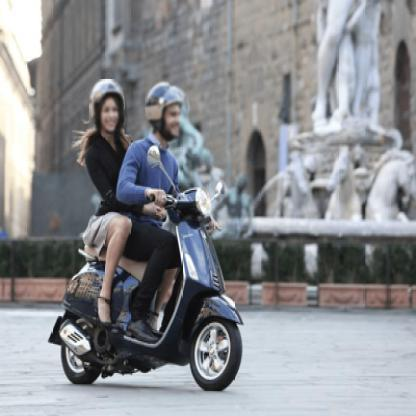Helmet: (144, 78, 187, 147), (85, 78, 131, 138)
